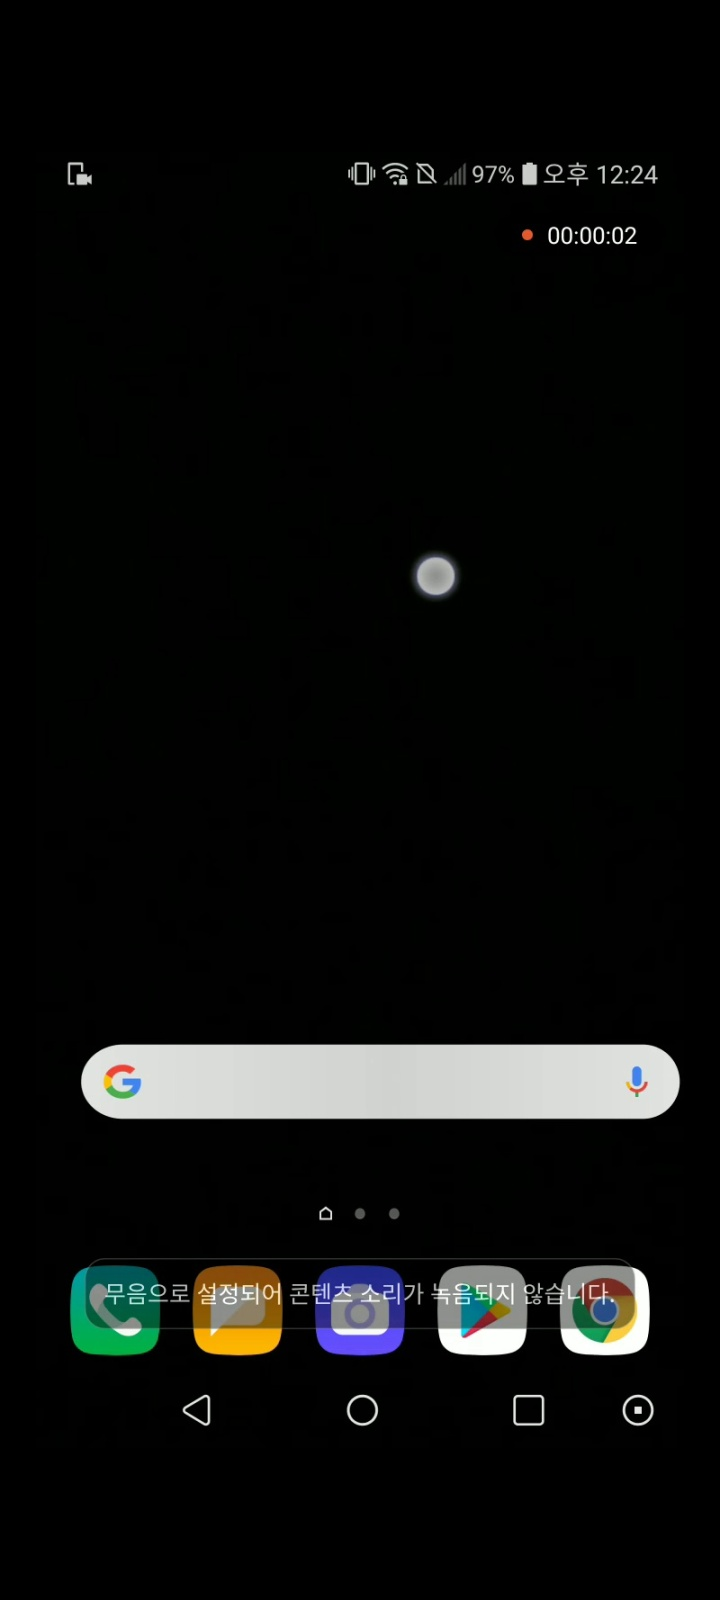Cursor: (414, 554, 459, 599)
